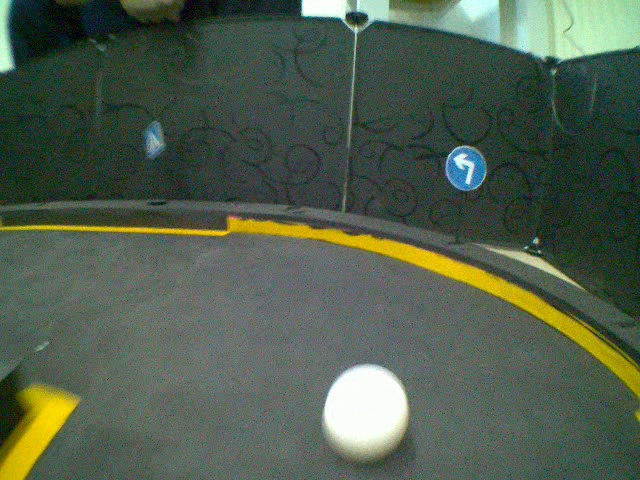ball: (321, 364, 411, 467)
